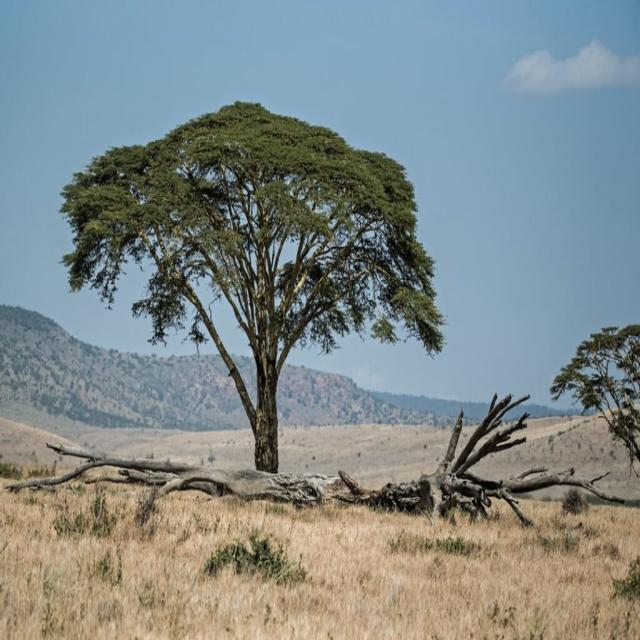Acacia: (48, 95, 449, 458)
